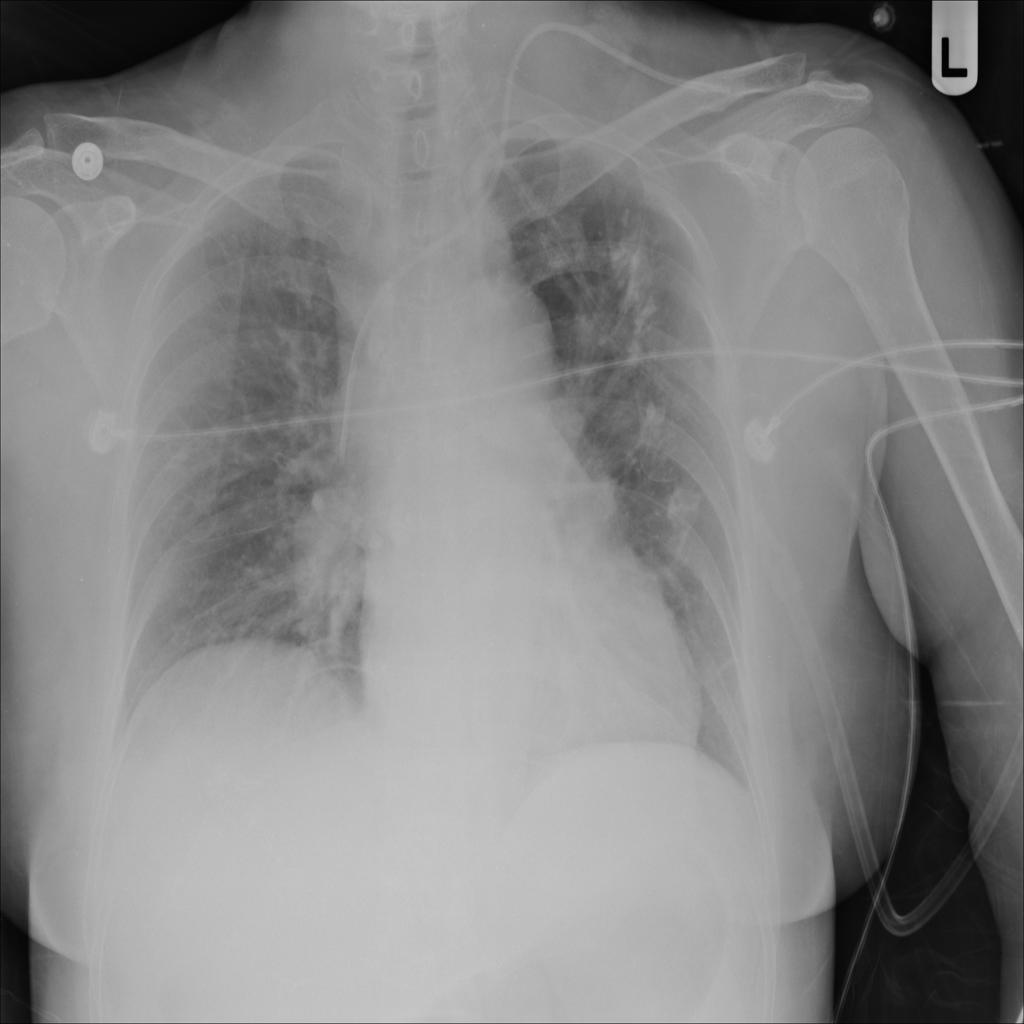nodule: (656, 465, 715, 549)
